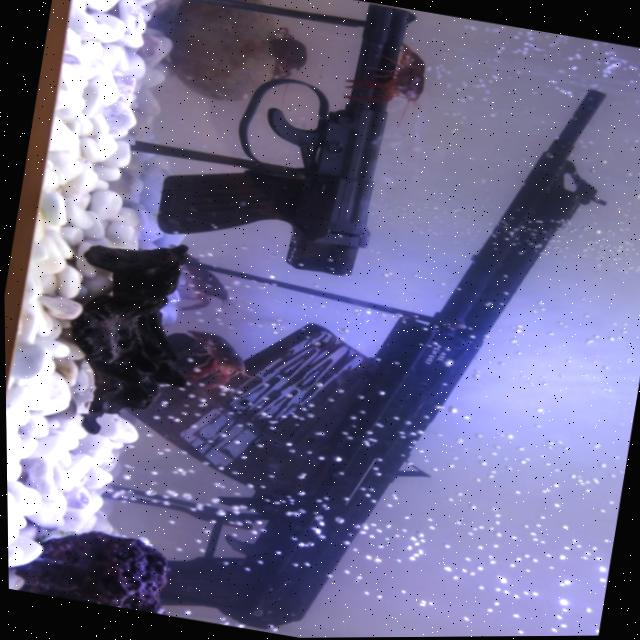firearm: (140, 28, 632, 639)
pistol: (148, 0, 418, 283)
